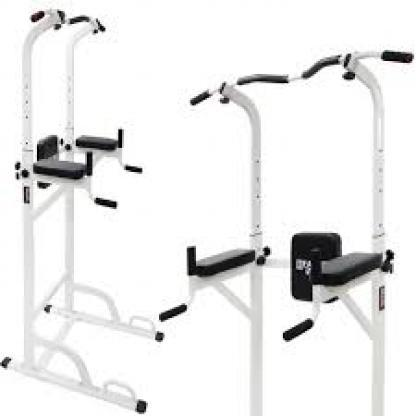chinning dipping: (157, 46, 412, 416), (0, 8, 164, 415)
